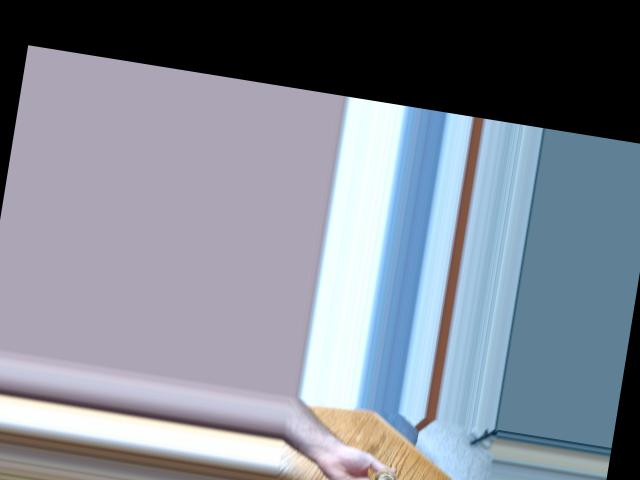sweet_potato: (374, 465, 405, 480)
